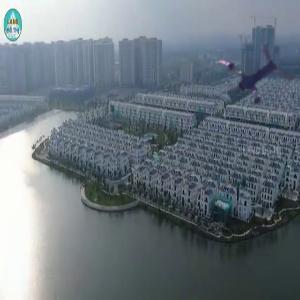drone: (210, 40, 296, 126)
